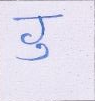u_matra: (15, 44, 53, 61)
